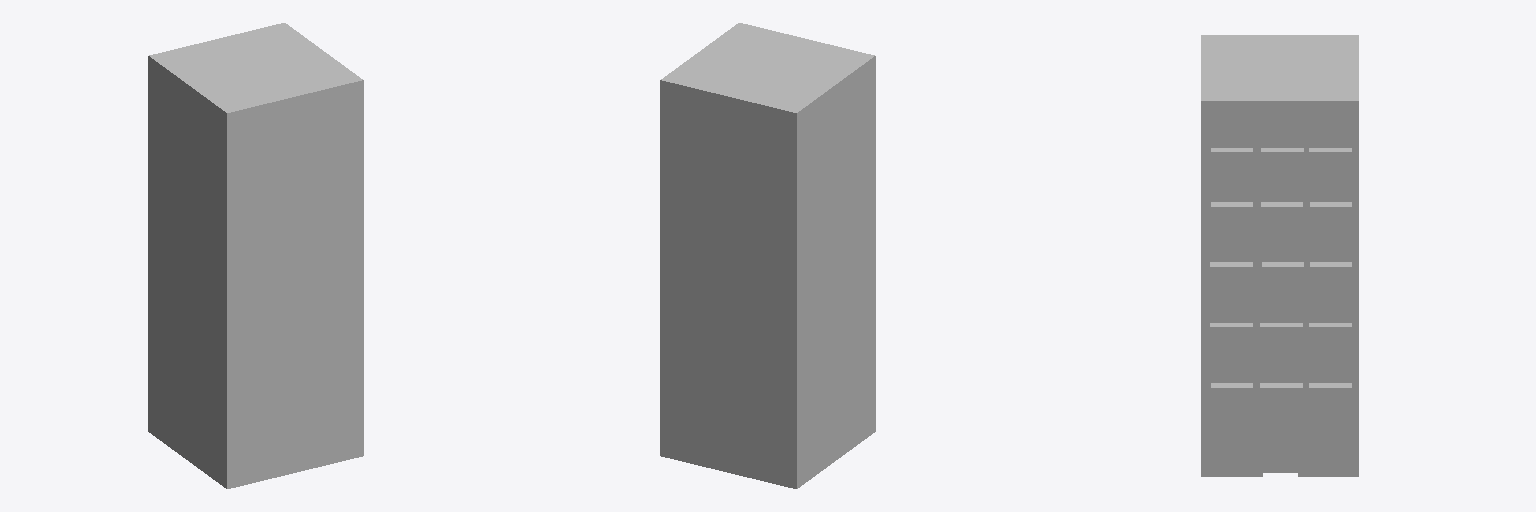
Rendered from domek2.obj.
3 renders of one model, left to right at view 1: azimuth 30°, elevation 25°; view 2: azimuth 150°, elevation 25°; view 3: azimuth 270°, elevation 25°, orthographic.
Visible parts, largest first — view 1: Cube; view 2: Cube; view 3: Cube.
Part boxes in pixels (bbox=[...]): Cube: bbox=[148, 23, 363, 488]; Cube: bbox=[660, 23, 875, 488]; Cube: bbox=[1201, 35, 1358, 476].
Bounding box in the file's own units: 2 × 5.27 × 2.